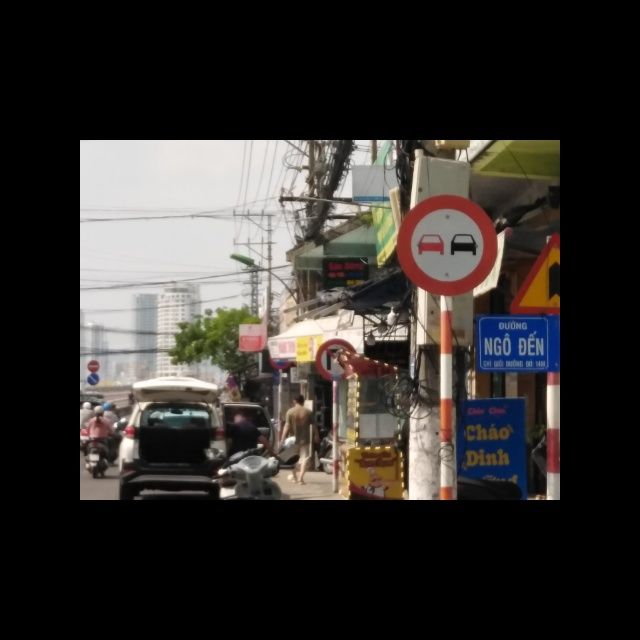Cấm vượt: (393, 194, 496, 295)
